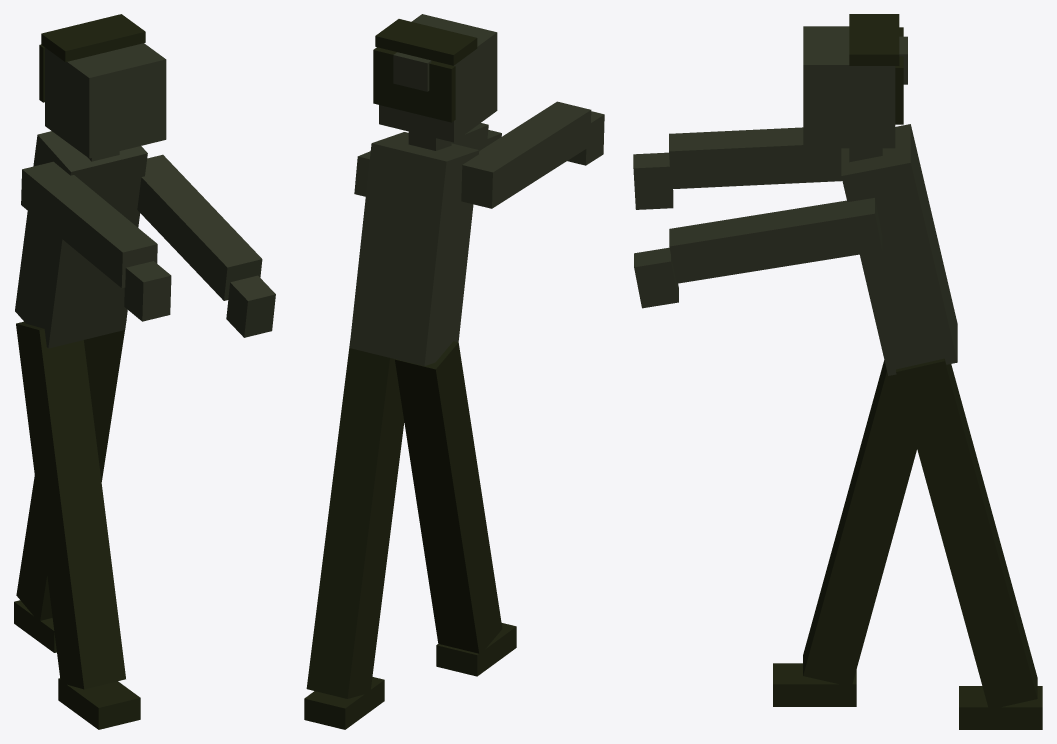
Rendered from SM_ZombiFino_v0_Base_LOD1.fbx.
3 views of the same model, side by side, from view 1: azimuth 30°, elevation 25°; view 2: azimuth 150°, elevation 25°; view 3: azimuth 270°, elevation 25° (orthographic). The views are drawn at different scales.
Parts seen in each view (by area): view 1: SM_zombi_fino_v0_LOD1; view 2: SM_zombi_fino_v0_LOD1; view 3: SM_zombi_fino_v0_LOD1.
Boxes of the visible parts, box(x1,y1,x2,y2) form: SM_zombi_fino_v0_LOD1: box(14, 14, 275, 729); SM_zombi_fino_v0_LOD1: box(304, 14, 604, 729); SM_zombi_fino_v0_LOD1: box(633, 14, 1042, 729).
Bounding box in the file's own units: 0.4 × 1.78 × 0.9796.
